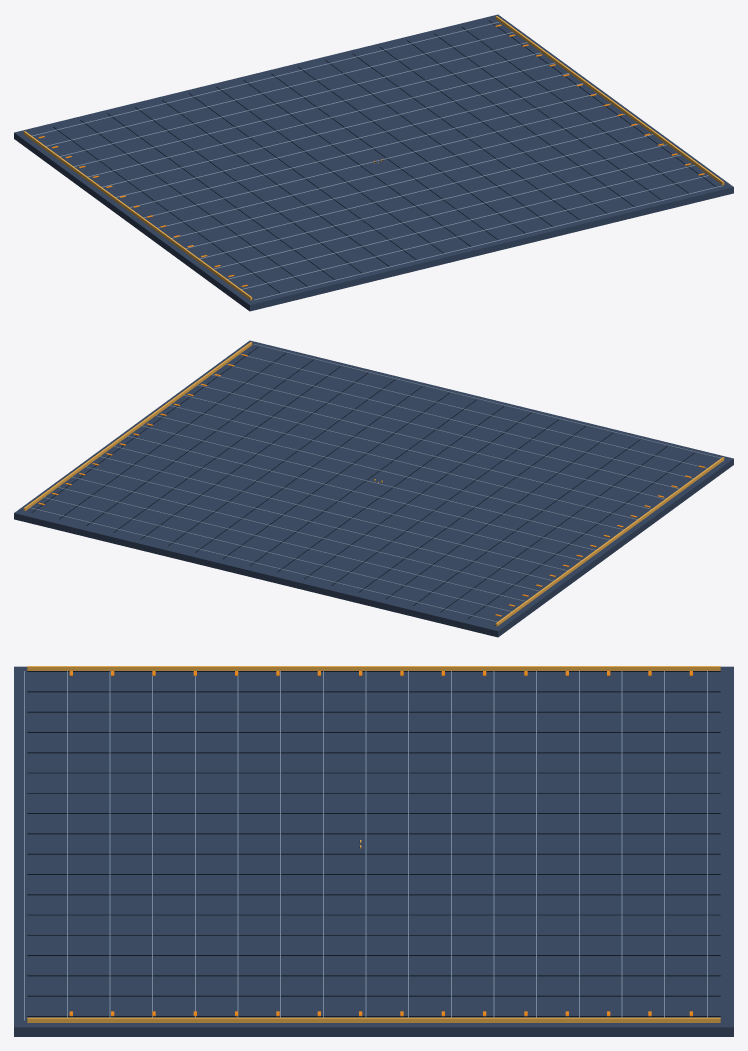
File: 00_L91_CosmicNavigationQualificationDeck.fbx
The picture shows the model from 3 angles, top to bottom: view 1: azimuth 30°, elevation 25°; view 2: azimuth 150°, elevation 25°; view 3: azimuth 270°, elevation 25°; orthographic projection. The views are drawn at different scales.
Visible parts, largest first — view 1: L91_CosmicNavigationQualificationDeck; view 2: L91_CosmicNavigationQualificationDeck; view 3: L91_CosmicNavigationQualificationDeck.
Boxes of the visible parts, x1,y1,x2,y2 form: L91_CosmicNavigationQualificationDeck: (14,14,733,311); L91_CosmicNavigationQualificationDeck: (14,340,733,637); L91_CosmicNavigationQualificationDeck: (14,666,733,1036).
Bounding box in the file's own units: 3200 × 59 × 2700.
